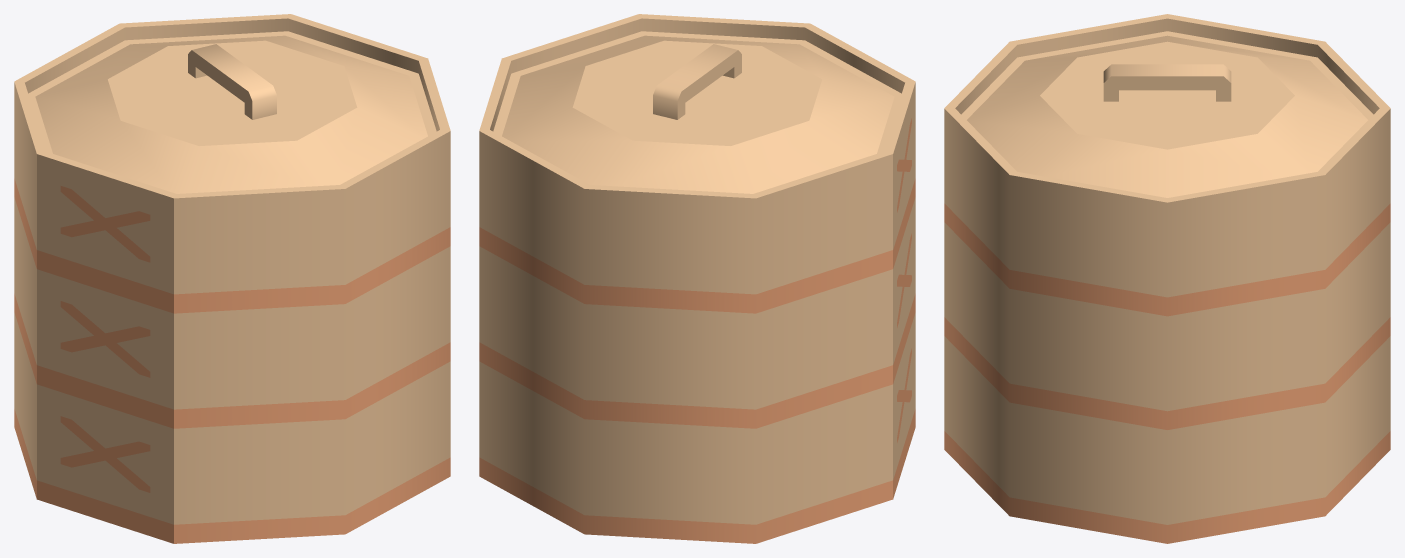
File: steamer.dae
The picture shows the model from 3 angles, left to right: view 1: azimuth 30°, elevation 25°; view 2: azimuth 150°, elevation 25°; view 3: azimuth 270°, elevation 25°; orthographic projection.
Visible parts, largest first — view 1: layer (×3), lid; view 2: layer (×3), lid; view 3: layer (×3), lid.
Boxes of the visible parts, box(x1,y1,x2,y2) form: layer (×3): box(14, 14, 450, 543); lid: box(35, 35, 427, 193); layer (×3): box(479, 14, 915, 543); lid: box(502, 35, 894, 193); layer (×3): box(944, 14, 1390, 543); lid: box(967, 35, 1367, 197).
Bounding box in the file's own units: 0.64 × 0.6 × 0.64.
